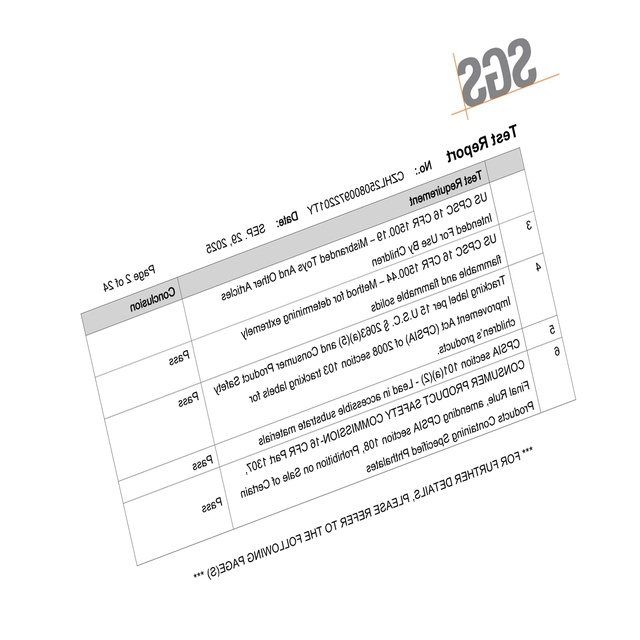sgs: (458, 37, 536, 107)
